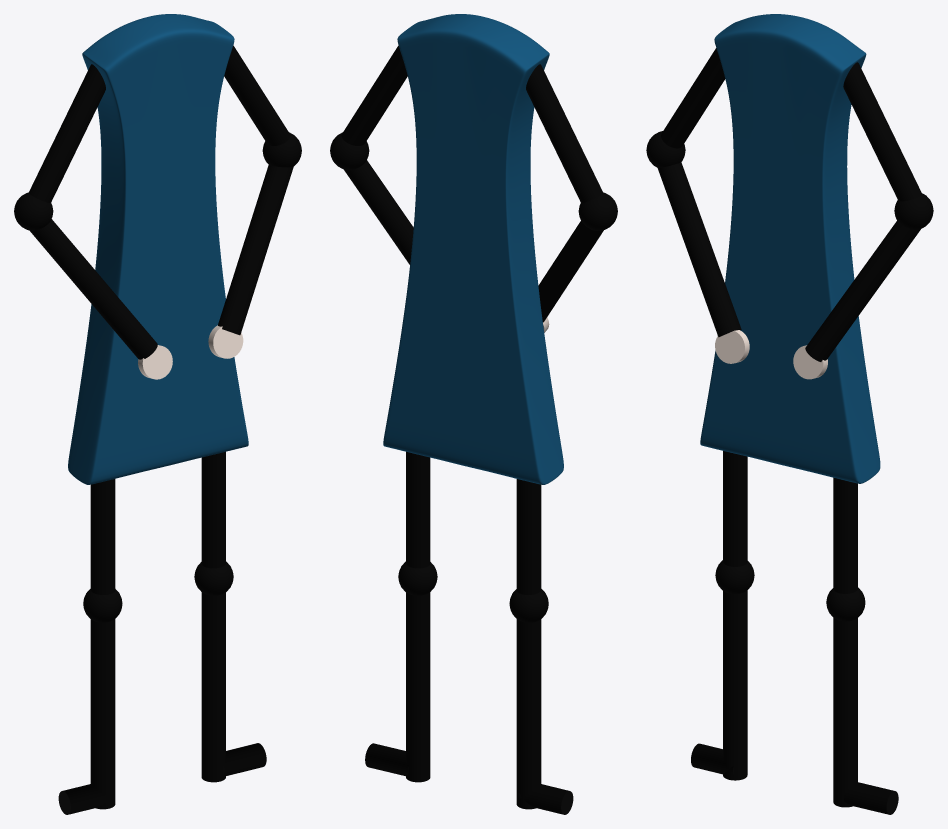
The picture shows the model from 3 angles, left to right: view 1: azimuth 30°, elevation 25°; view 2: azimuth 150°, elevation 25°; view 3: azimuth 330°, elevation 25°; orthographic projection.
Visible parts, largest first — view 1: MaleBody, leftForeLeg, rightForeLeg, LeftForeArm, RightForeArm, RightUpperArm, rightUpperLeg, LeftUpperLeg, LeftUpperArm, rightUpperArmSphere, rightFoot, leftFoot (+5 smaller); view 2: MaleBody, leftForeLeg, rightForeLeg, RightUpperArm, rightUpperLeg, LeftUpperLeg, LeftUpperArm, LeftForeArm, RightForeArm, rightUpperArmSphere, rightFoot, leftFoot (+3 smaller); view 3: MaleBody, rightForeLeg, RightForeArm, leftForeLeg, LeftForeArm, LeftUpperArm, LeftUpperLeg, rightUpperLeg, RightUpperArm, leftFoot, LeftUpperArmSphere, leftUpperLegSphere (+5 smaller).
Part boxes in pixels (x1,y1,x2,y2): MaleBody: (68, 14, 248, 484); leftForeLeg: (201, 592, 225, 782); rightForeLeg: (90, 619, 115, 809); LeftForeArm: (218, 165, 293, 335); RightForeArm: (30, 219, 157, 359); RightUpperArm: (28, 64, 105, 202); rightUpperLeg: (90, 479, 115, 594); LeftUpperLeg: (201, 451, 225, 568); LeftUpperArm: (224, 45, 290, 145); rightUpperArmSphere: (14, 192, 53, 230); rightFoot: (58, 784, 113, 814); leftFoot: (223, 743, 266, 775); MaleBody: (383, 14, 563, 484); leftForeLeg: (406, 592, 430, 782); rightForeLeg: (516, 619, 541, 809); RightUpperArm: (526, 64, 603, 202); rightUpperLeg: (516, 479, 541, 594); LeftUpperLeg: (406, 451, 430, 568); LeftUpperArm: (341, 45, 407, 145); LeftForeArm: (344, 160, 413, 264); RightForeArm: (538, 221, 603, 322); rightUpperArmSphere: (578, 192, 617, 230); rightFoot: (518, 784, 573, 814); leftFoot: (365, 743, 408, 776); MaleBody: (700, 14, 880, 483); rightForeLeg: (723, 590, 747, 780); RightForeArm: (657, 162, 741, 337); leftForeLeg: (833, 618, 857, 807); LeftForeArm: (805, 221, 920, 361); LeftUpperArm: (843, 62, 921, 201); LeftUpperLeg: (833, 477, 857, 593); rightUpperLeg: (723, 451, 747, 566); RightUpperArm: (661, 48, 725, 148); leftFoot: (844, 782, 898, 814); LeftUpperArmSphere: (894, 193, 933, 229); leftUpperLegSphere: (826, 587, 865, 621).
Size of the model in its own units: 133 by 345 by 36.42.
